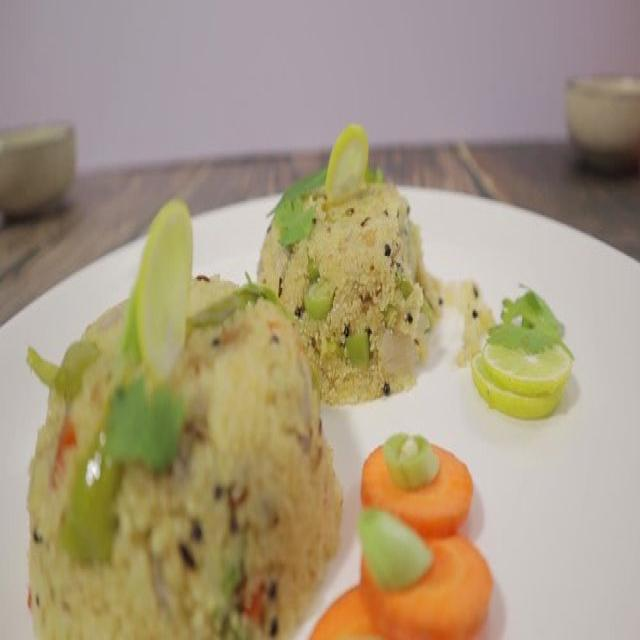UPMA: (27, 171, 433, 638)
